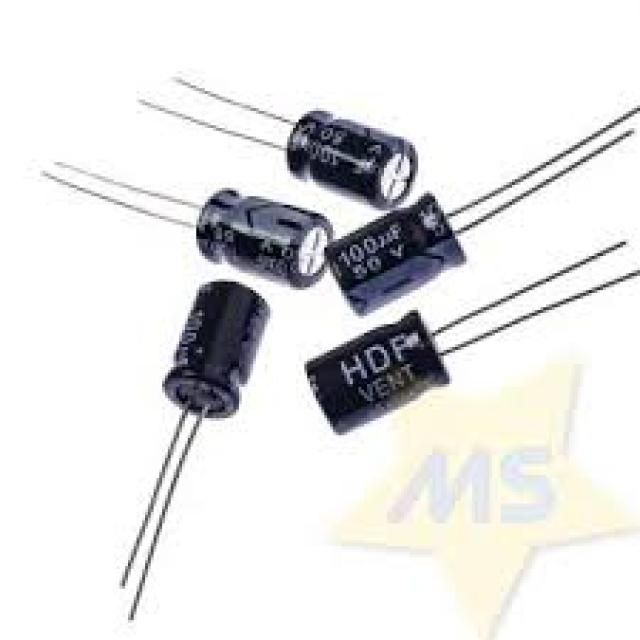Capacitor: (193, 191, 469, 319), (307, 313, 449, 438), (165, 282, 270, 421), (193, 191, 333, 293), (284, 111, 418, 213)
